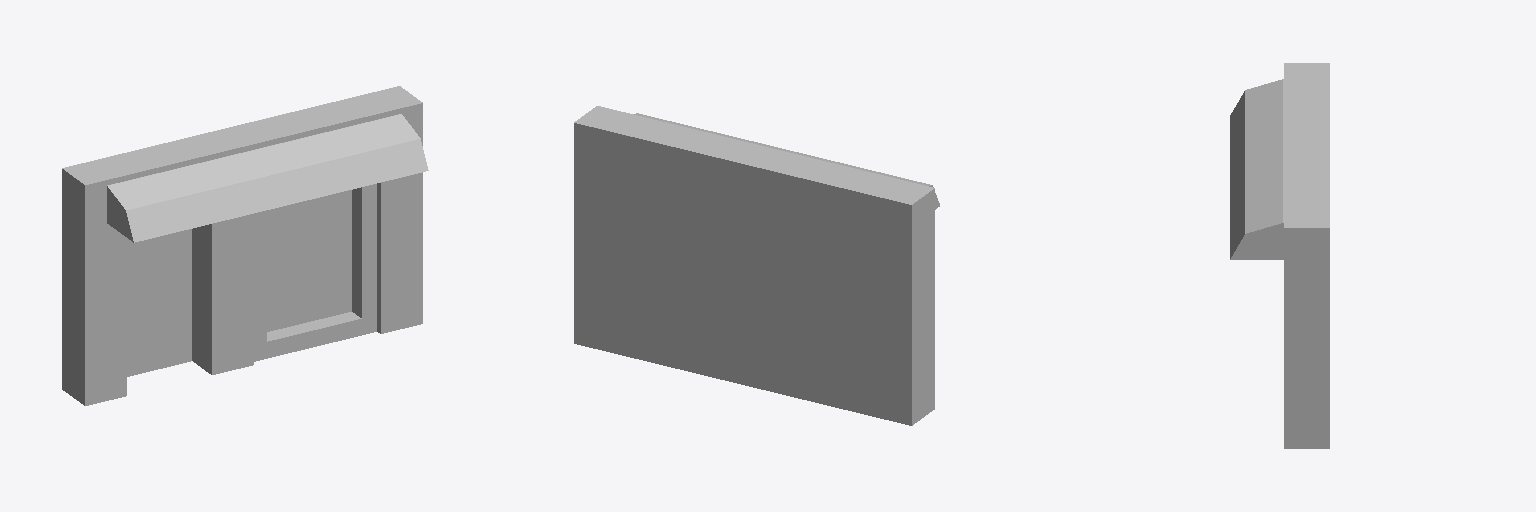
The model's file is door-white-glass-tent.obj.
3 renders of one model, left to right at view 1: azimuth 30°, elevation 25°; view 2: azimuth 150°, elevation 25°; view 3: azimuth 270°, elevation 25°, orthographic.
Visible parts, largest first — view 1: building-door-window.001, window-white-large.003; view 2: building-door-window.001; view 3: building-door-window.001.
Boxes of the visible parts, x1=… form: building-door-window.001: x1=62, y1=86, x2=428, y2=405; window-white-large.003: x1=254, y1=184, x2=376, y2=361; building-door-window.001: x1=574, y1=106, x2=939, y2=425; building-door-window.001: x1=1230, y1=63, x2=1329, y2=448.
Size of the model in its own units: 1 by 0.625 by 0.2582.